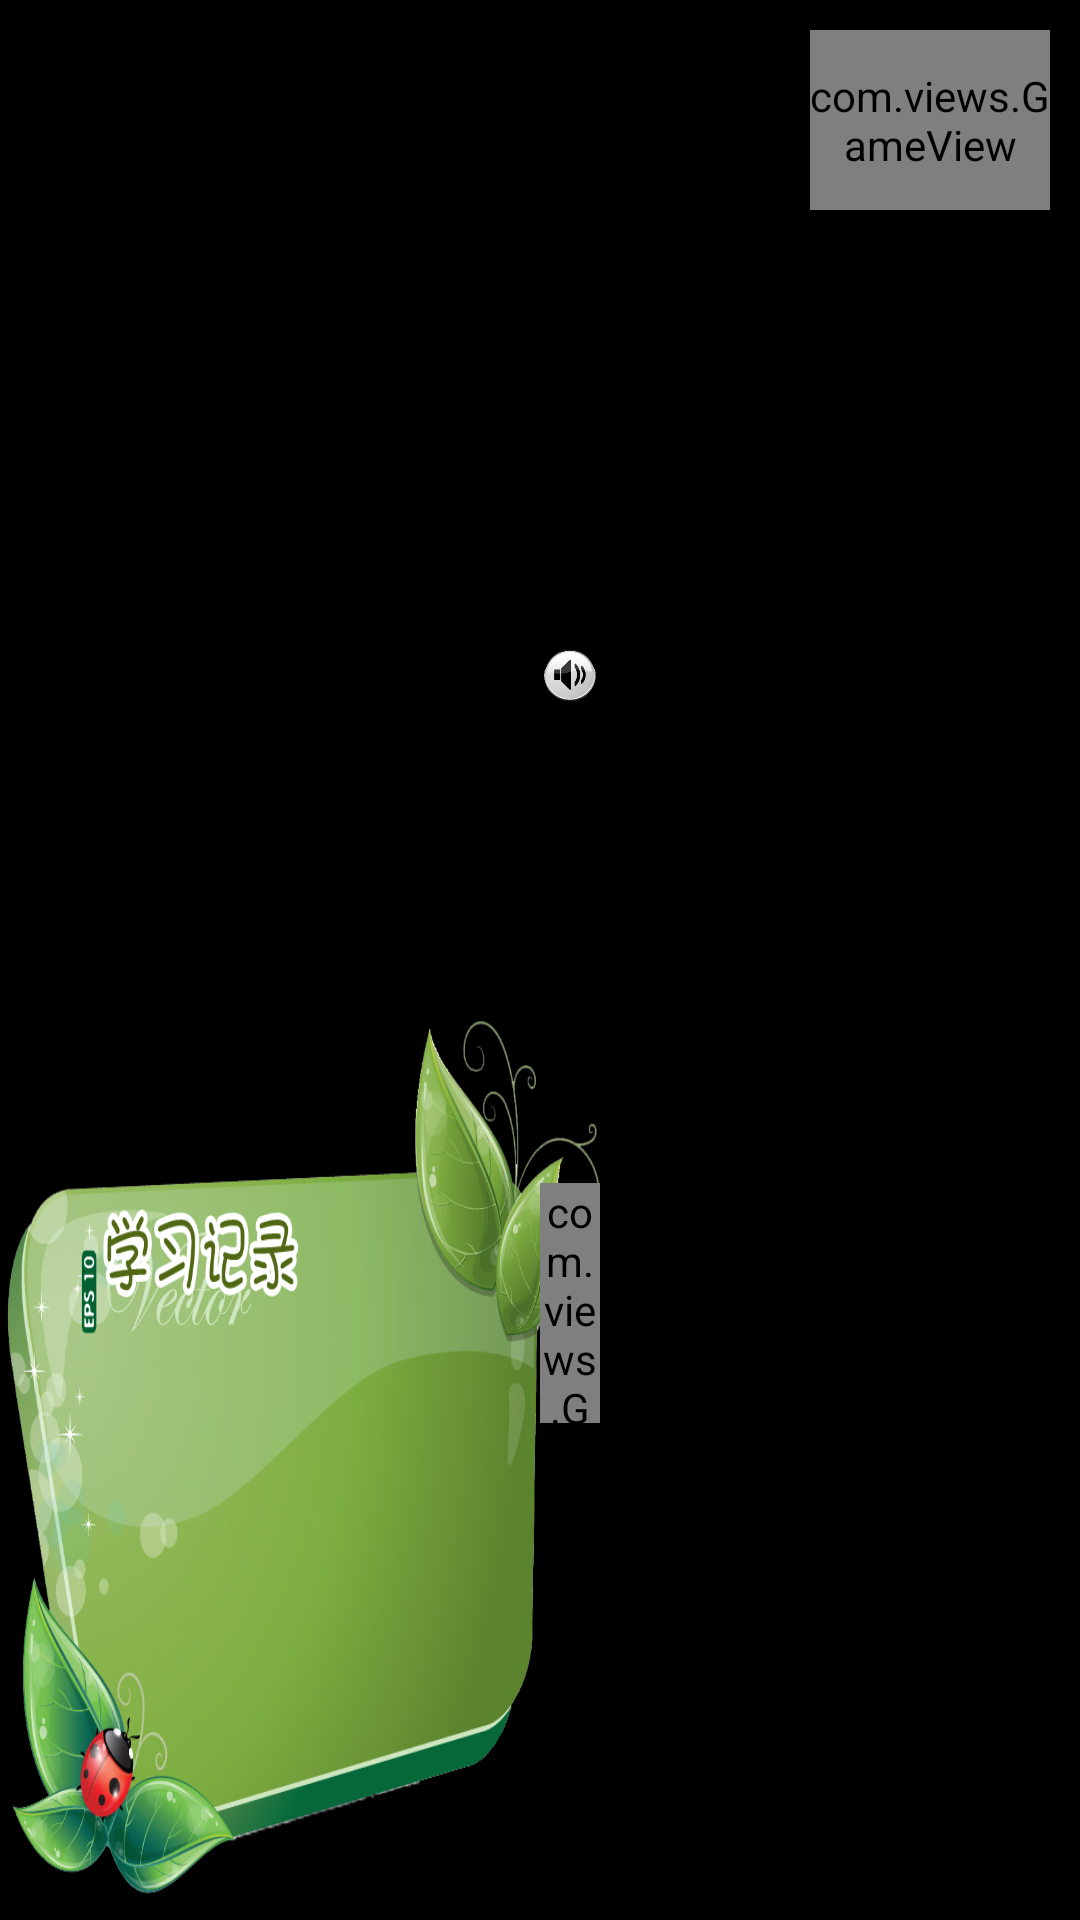

Icons on this 1080w x 1920h Android screen, each with the point to tap as point (x, y):
horn: point (570, 675)
